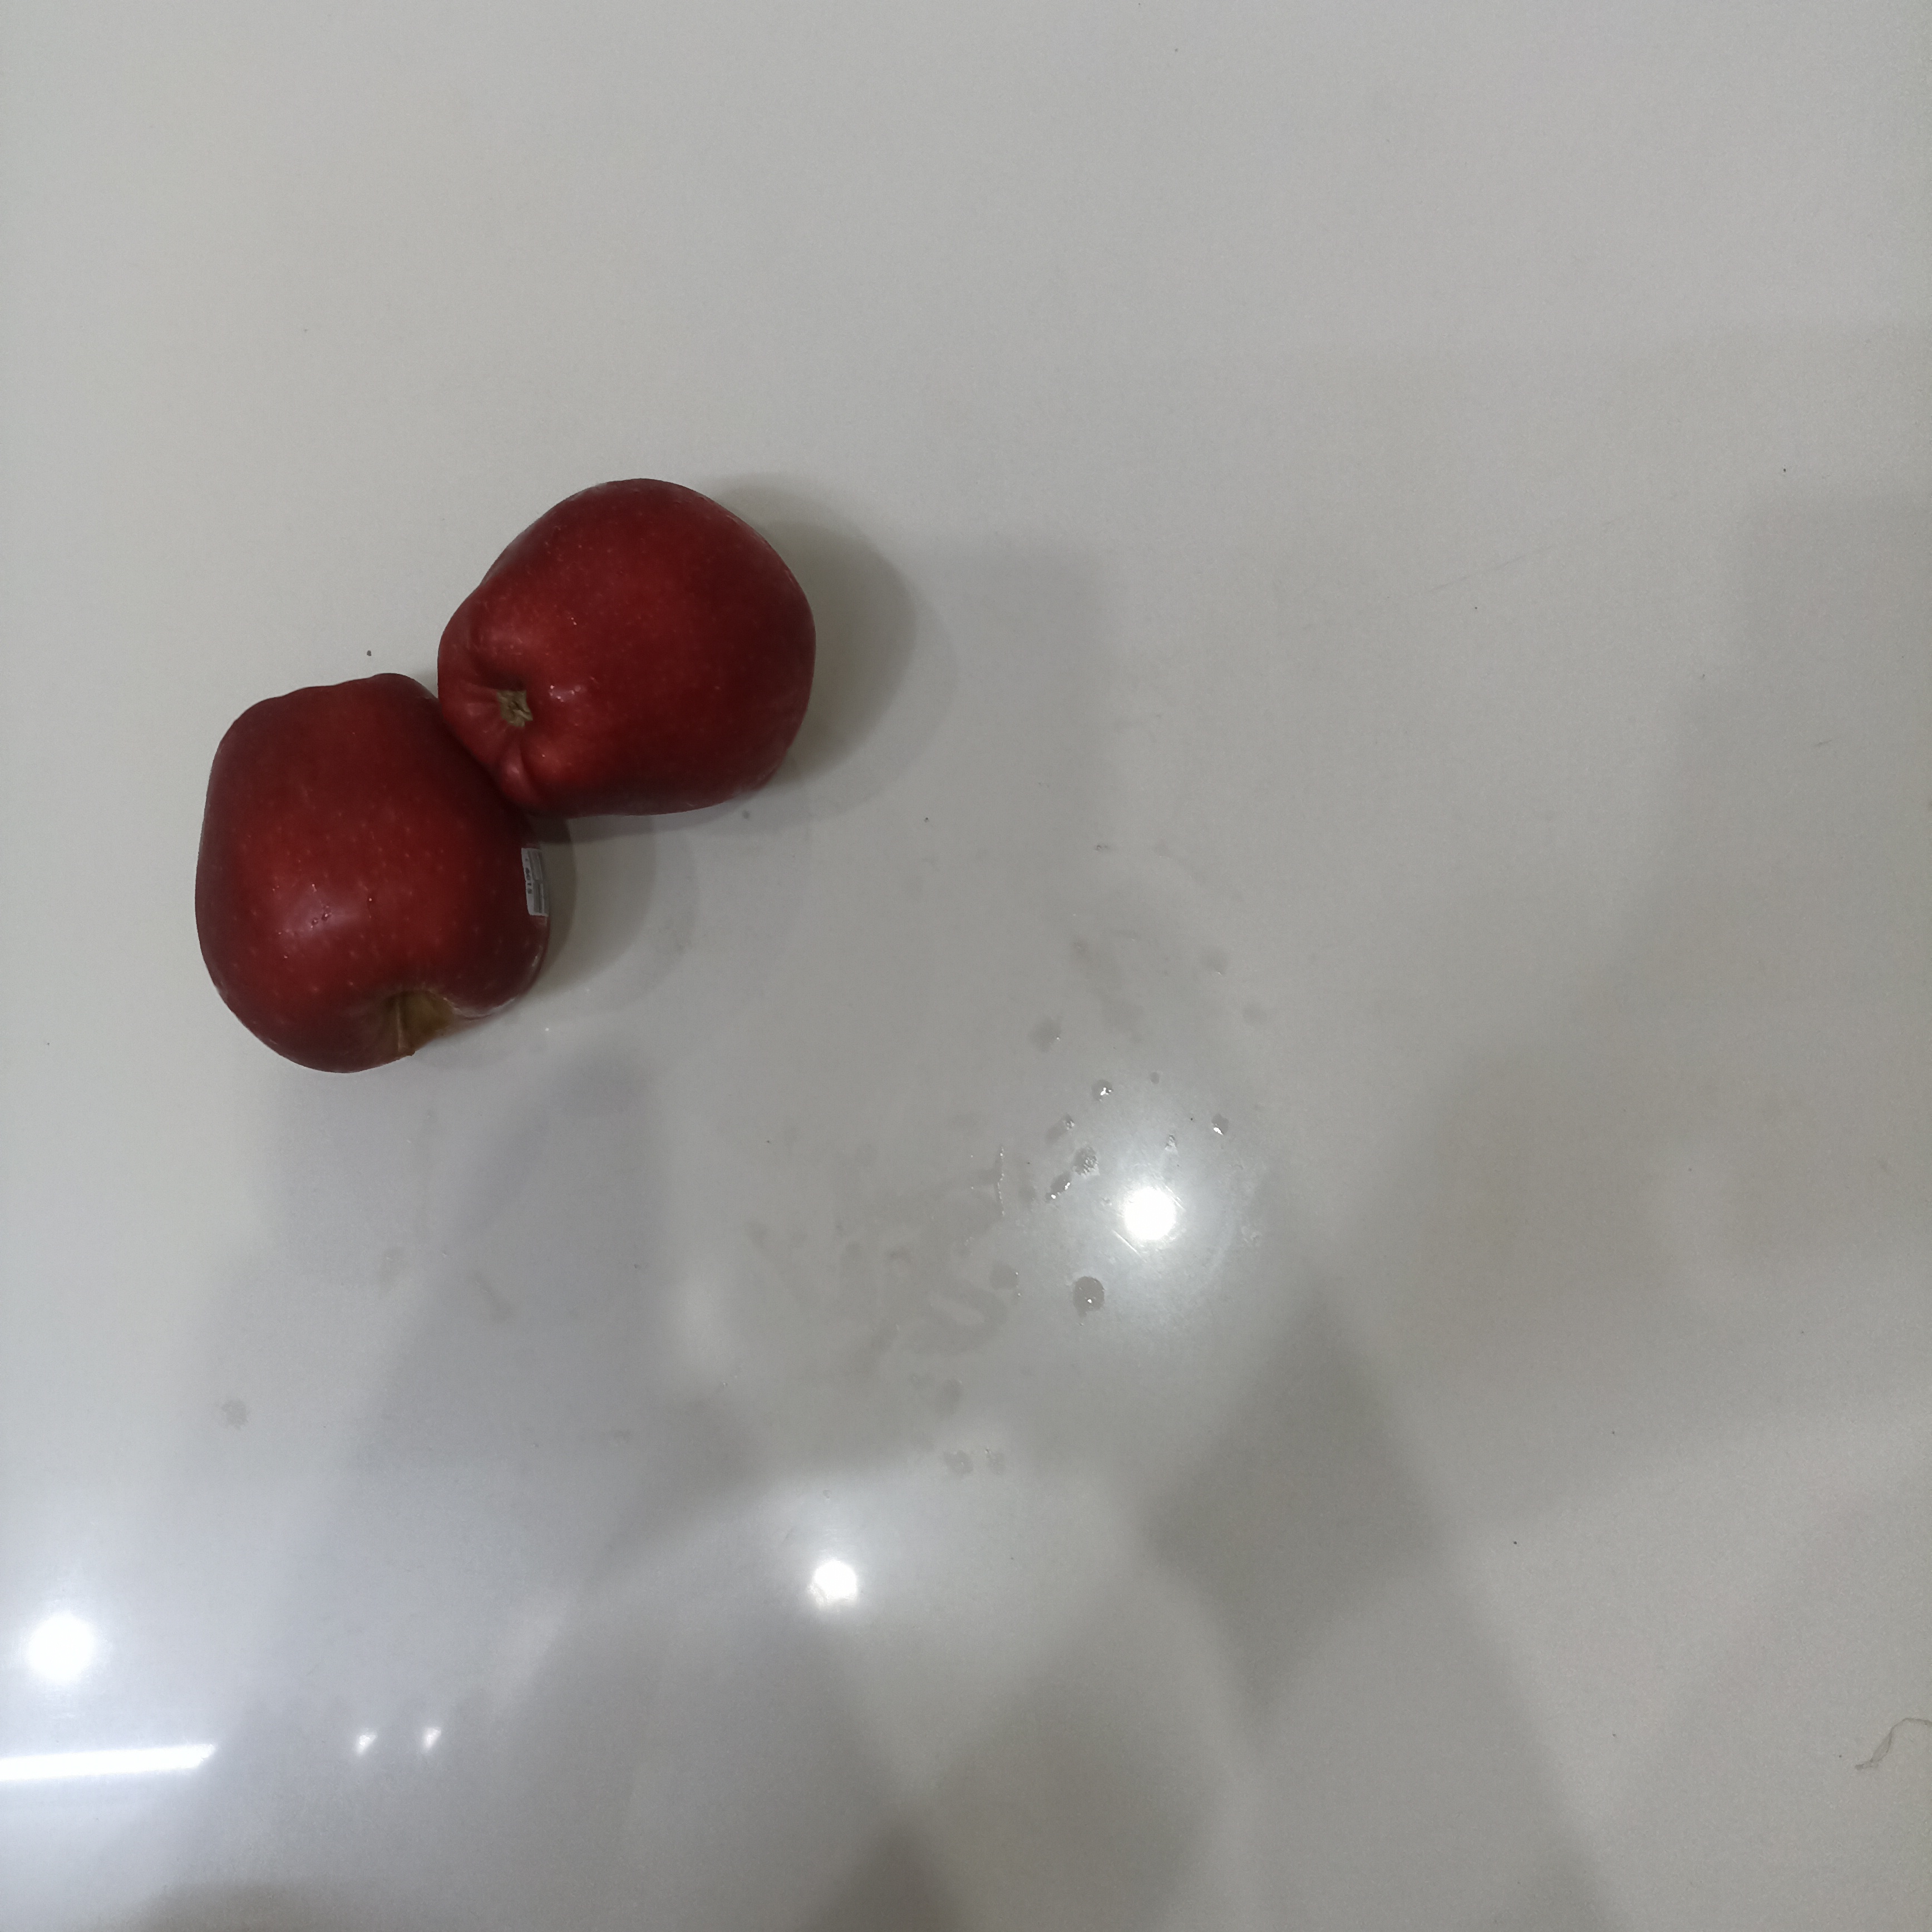Tao do: (193, 672, 554, 1077), (439, 476, 810, 824)
